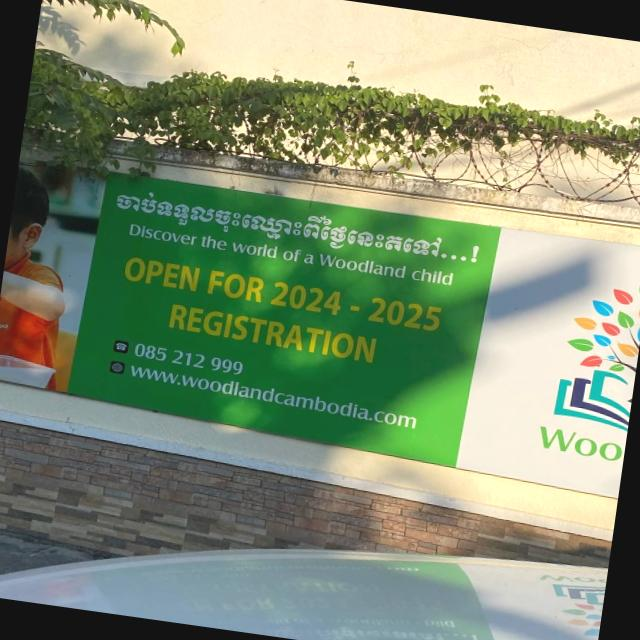400: (127, 334, 256, 386)
651: (265, 272, 455, 344)
Yolov11kh: (109, 184, 487, 274)
